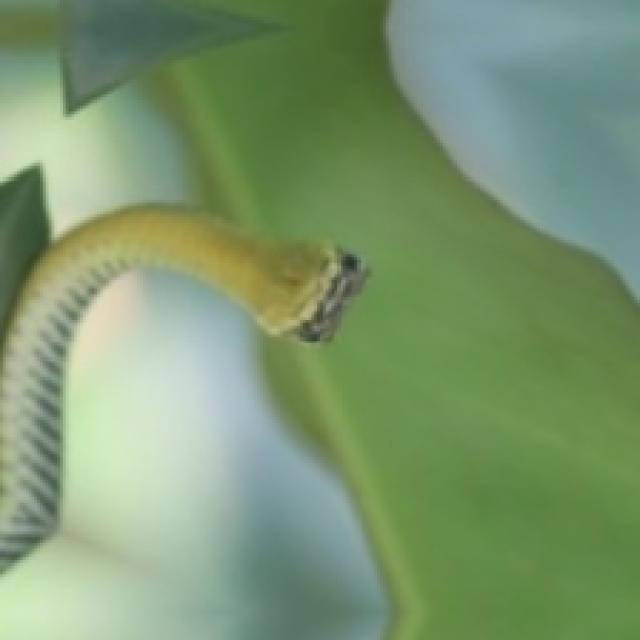paradise tree snake: (0, 271, 383, 637), (0, 206, 363, 566)
